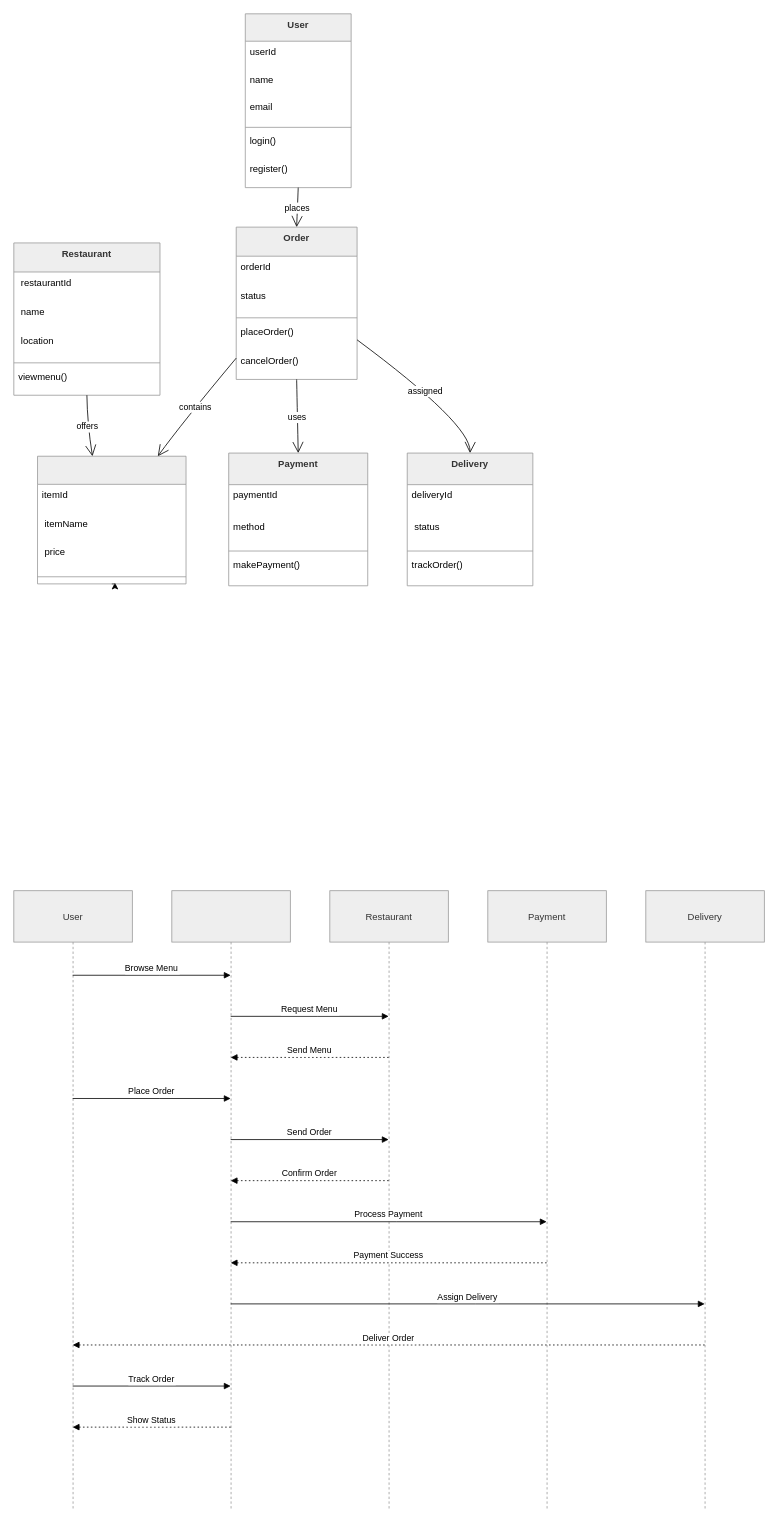
This 778x1524 diagram has some shape labels left out. Each missing label, with the box of its shape:
App: (171, 890, 290, 1510)
MenuItem: (37, 455, 186, 584)
